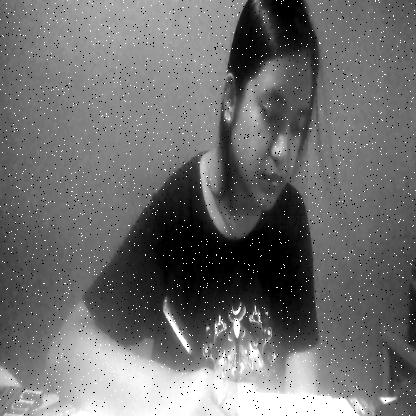Distracted: (230, 33, 308, 216)
